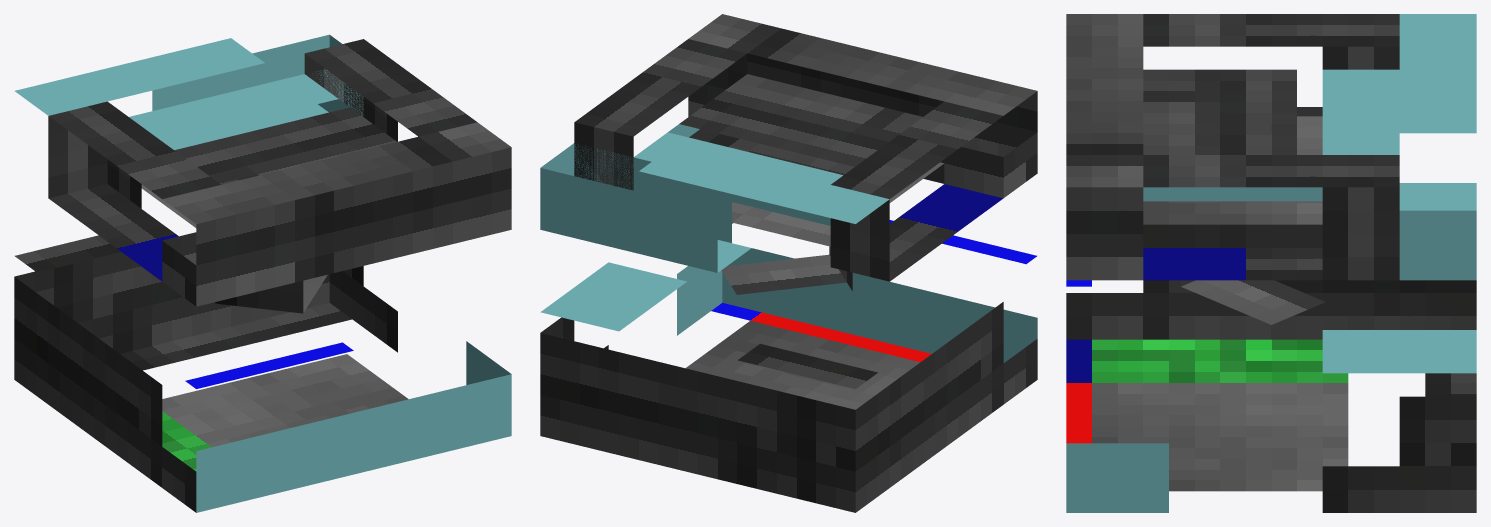
The model's file is assembly_table.obj.
3 renders of one model, left to right at view 1: azimuth 30°, elevation 25°; view 2: azimuth 150°, elevation 25°; view 3: azimuth 270°, elevation 25°, orthographic. The views are drawn at different scales.
Visible parts, largest first — view 1: model; view 2: model; view 3: model.
Part boxes in pixels (left/top/right/bottom): model: left=14, top=34, right=511, bottom=512; model: left=540, top=14, right=1037, bottom=512; model: left=1066, top=14, right=1476, bottom=512.
Size of the model in its own units: 1 by 0.875 by 1.
